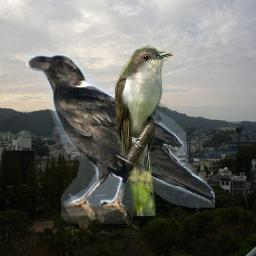Crow: (26, 52, 215, 224)
Cuckoo: (115, 42, 173, 216)
